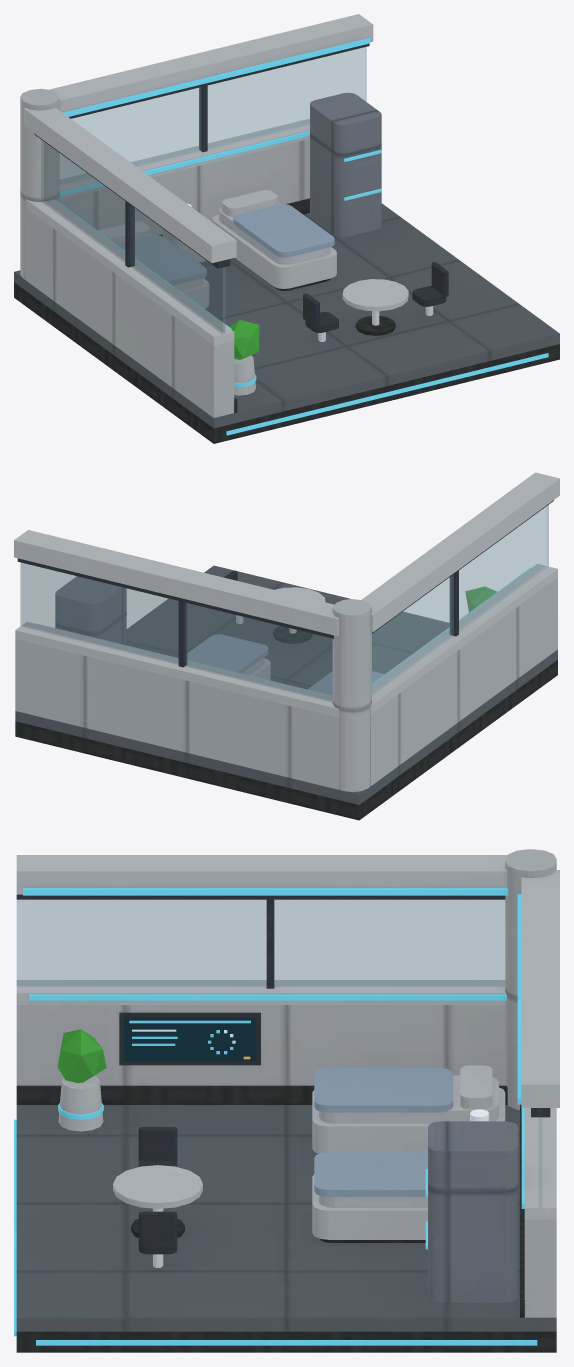
Rendered from enterprise_habitat_t2.glb.
3 renders of one model, top to bottom at view 1: azimuth 30°, elevation 25°; view 2: azimuth 150°, elevation 25°; view 3: azimuth 270°, elevation 25°, orthographic. The views are drawn at different scales.
Visible parts, largest first — view 1: te_enterprise_habitat_t2; view 2: te_enterprise_habitat_t2; view 3: te_enterprise_habitat_t2.
Part boxes in pixels (x1,y1,x2,y2): te_enterprise_habitat_t2: (14, 14, 559, 443); te_enterprise_habitat_t2: (14, 472, 559, 820); te_enterprise_habitat_t2: (14, 849, 559, 1352).
Size of the model in its own units: 0.849 by 0.472 by 0.849.
Materials: 2 (1 with a texture image).
